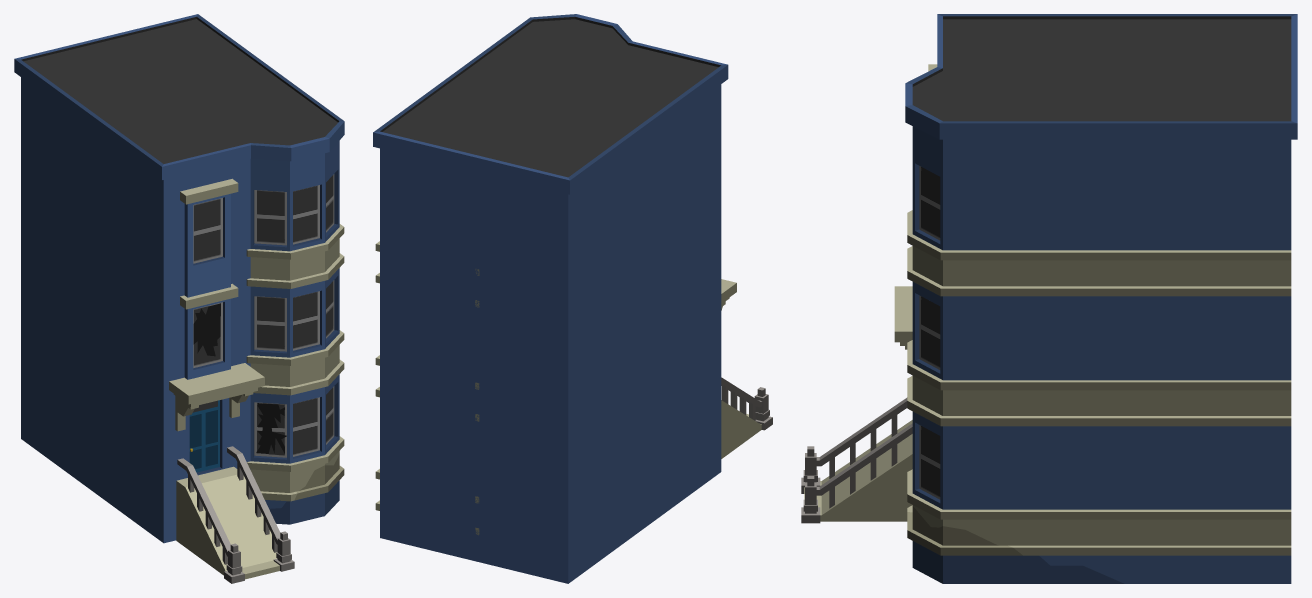
Rendered from SA_Bld_TownHouse_02.gltf.
3 views of the same model, side by side, from view 1: azimuth 30°, elevation 25°; view 2: azimuth 150°, elevation 25°; view 3: azimuth 270°, elevation 25° (orthographic). The views are drawn at different scales.
Parts seen in each view (by area): view 1: SA_Bld_TownHouse_02; view 2: SA_Bld_TownHouse_02; view 3: SA_Bld_TownHouse_02.
Part boxes in pixels (box(x1,y1,x2,y2)): SA_Bld_TownHouse_02: box(14, 14, 344, 583); SA_Bld_TownHouse_02: box(373, 14, 772, 583); SA_Bld_TownHouse_02: box(801, 14, 1297, 583).
Size of the model in its own units: 9.4 by 18.57 by 18.02.
1 material, 1 textured.
